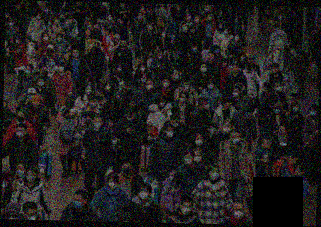mask_weared_incorrect: (222, 124, 231, 134), (119, 41, 127, 48)
with_mask: (232, 207, 245, 220), (179, 204, 192, 217), (137, 189, 149, 201), (71, 197, 83, 209), (209, 170, 220, 182), (120, 165, 132, 176), (107, 179, 118, 191), (24, 211, 38, 220), (183, 155, 193, 166), (92, 119, 102, 130), (24, 173, 35, 183), (15, 128, 25, 139), (15, 167, 24, 179), (4, 212, 17, 220), (273, 83, 283, 93), (230, 135, 240, 145), (15, 113, 25, 123), (194, 136, 203, 147), (309, 108, 318, 118), (272, 106, 282, 115), (192, 153, 201, 163), (289, 157, 298, 166), (165, 129, 174, 138), (291, 105, 300, 113), (202, 102, 210, 111), (178, 95, 186, 104), (145, 82, 153, 91), (125, 114, 134, 122), (95, 91, 103, 100), (87, 100, 96, 108), (85, 116, 93, 125), (26, 92, 34, 101), (37, 79, 45, 88), (23, 67, 31, 76), (205, 14, 213, 22), (180, 24, 188, 32), (199, 66, 207, 74), (172, 72, 180, 80), (182, 82, 190, 90), (158, 100, 166, 108), (124, 86, 132, 94), (84, 87, 92, 95), (40, 68, 48, 76), (170, 121, 179, 128), (162, 80, 169, 89), (260, 84, 266, 94), (232, 35, 240, 42), (232, 90, 239, 98), (191, 46, 198, 54), (207, 83, 215, 90), (155, 53, 163, 60), (103, 84, 111, 91), (71, 51, 78, 59), (57, 65, 64, 73), (47, 60, 54, 68), (288, 47, 295, 54), (139, 66, 146, 73), (140, 77, 147, 84), (115, 65, 122, 72), (46, 47, 53, 54), (168, 174, 174, 182), (160, 31, 166, 39), (203, 6, 210, 12), (222, 28, 228, 35), (193, 17, 200, 23), (147, 24, 153, 31), (115, 19, 121, 26), (85, 23, 91, 30), (93, 44, 99, 51), (75, 2, 82, 8), (58, 15, 64, 22), (56, 36, 62, 43), (42, 35, 48, 42), (31, 103, 39, 108), (277, 14, 283, 20), (239, 55, 245, 61), (246, 65, 252, 71), (185, 14, 191, 20), (214, 48, 220, 54), (95, 20, 101, 26), (7, 21, 13, 27), (35, 14, 41, 20), (137, 14, 142, 21), (2, 104, 6, 112), (218, 23, 223, 29), (146, 8, 151, 14), (119, 3, 125, 8), (107, 15, 112, 21), (99, 19, 104, 25), (58, 30, 63, 36), (30, 58, 35, 64), (14, 38, 19, 44), (44, 8, 49, 14), (24, 10, 30, 15), (175, 6, 180, 11), (167, 17, 172, 22), (149, 45, 153, 50), (157, 20, 162, 23)
without_mask: (277, 127, 287, 137), (263, 140, 271, 150), (271, 66, 279, 74), (232, 65, 239, 73), (207, 54, 214, 62), (221, 61, 228, 69), (225, 101, 232, 108), (249, 58, 256, 64), (84, 31, 90, 37), (191, 27, 196, 34), (113, 38, 120, 43), (104, 30, 109, 36), (53, 19, 58, 24), (4, 14, 9, 19), (16, 5, 20, 10)
